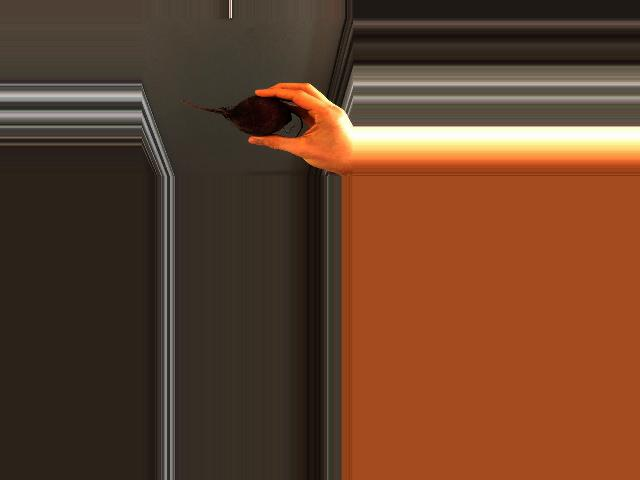beet: (176, 96, 301, 137)
